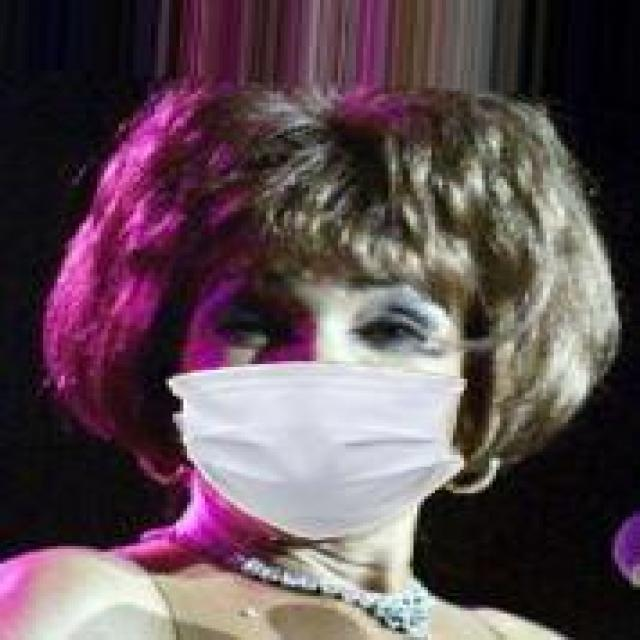mask: (90, 94, 575, 540)
